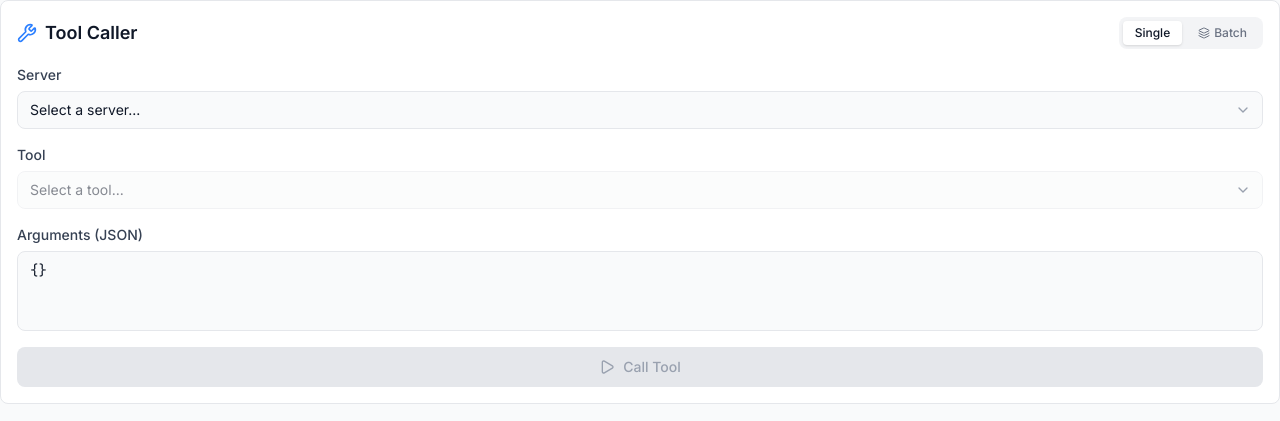
Test: MCPToolCaller › tool selection › tool select is enabled after server is selected
Select "Test Server (2 tools)" in the dropdown below "Server" at {"x": 640, "y": 110}, box [17,91,1263,129]
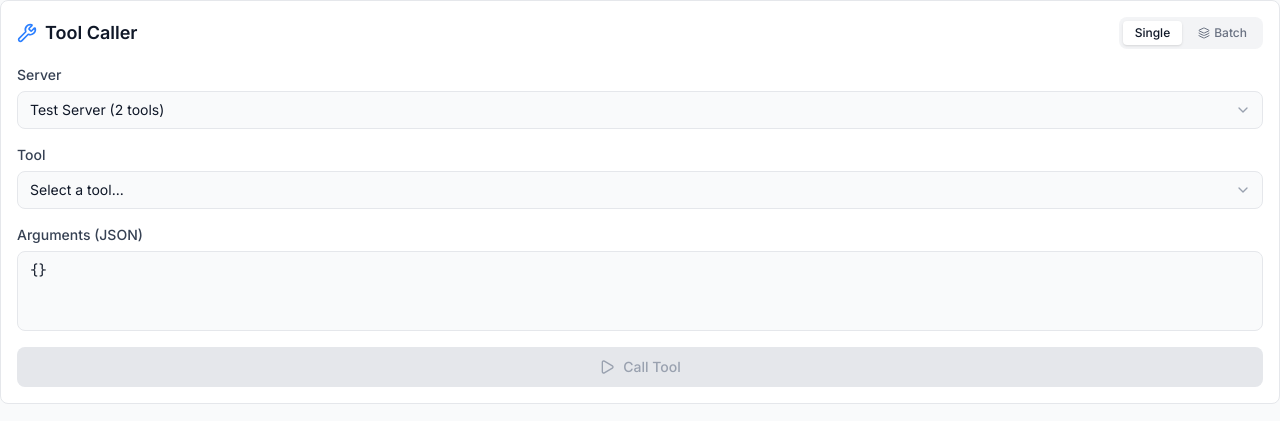
Expected: the 2nd dropdown is enabled, [17,171,1263,209]
